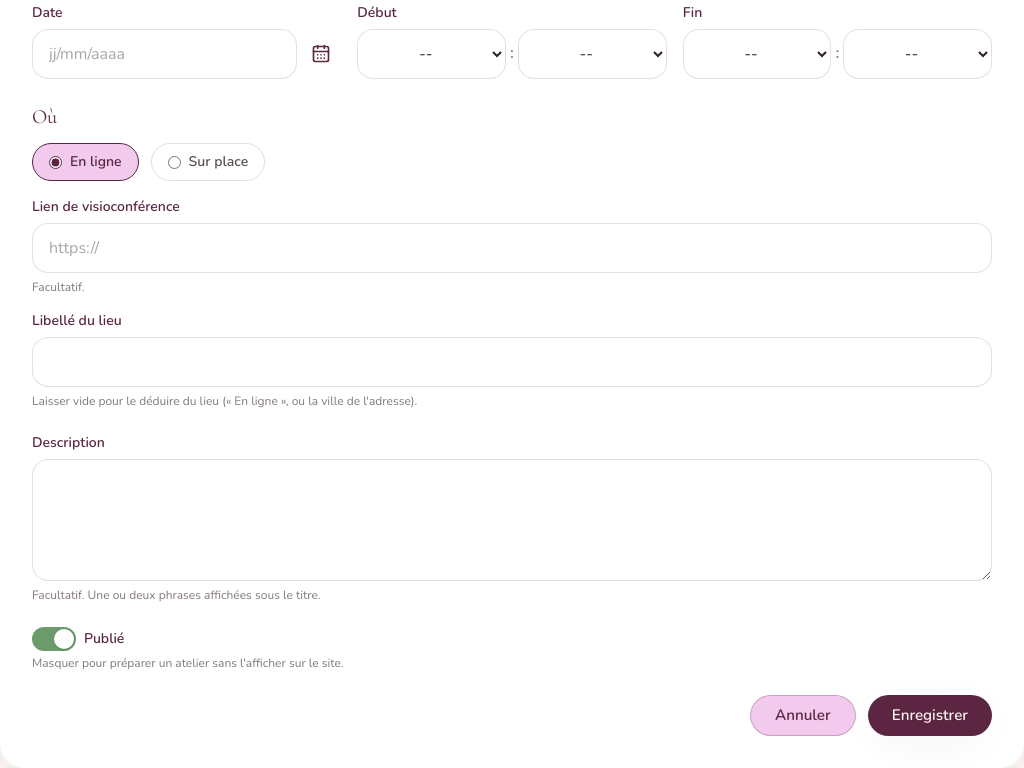
it: EventForm › puts the backend's messages under the fields they concern
The image size is (1024, 768).
(page scrolled)
Click the button "Enregistrer".
click(930, 716)  # box top-left (868, 695), bottom-right (992, 736)
(page scrolled)
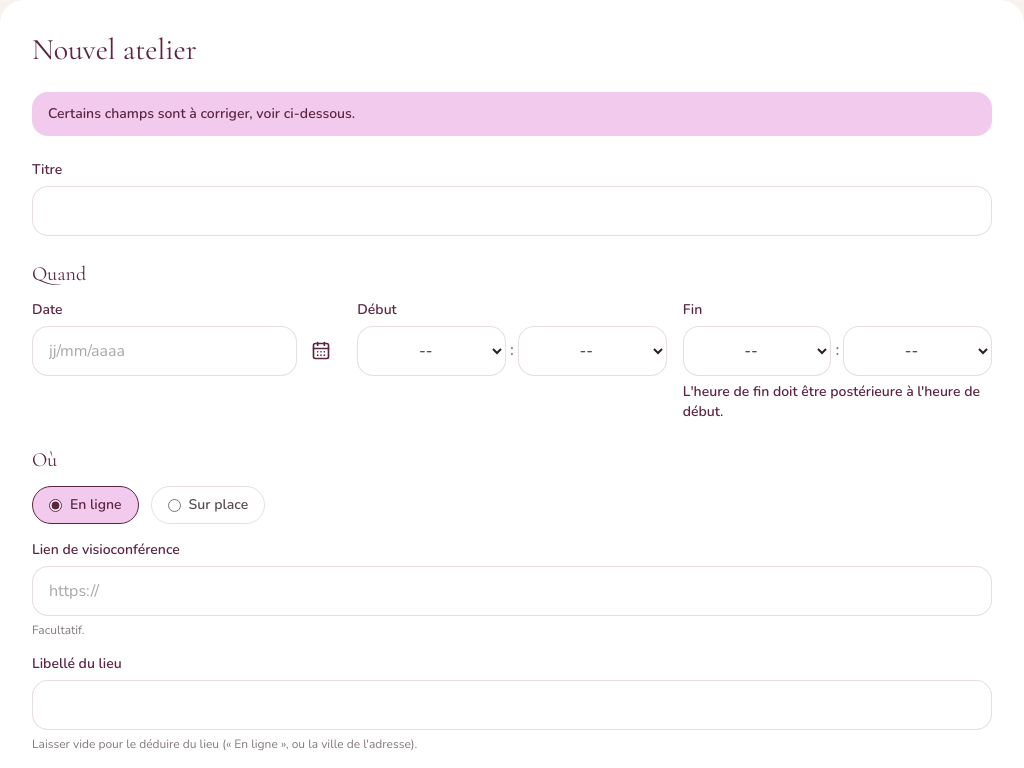
Expected: the message reads "Certains champs sont à corriger, voir ci-dessous.", top-left (48, 104), bottom-right (355, 123)
